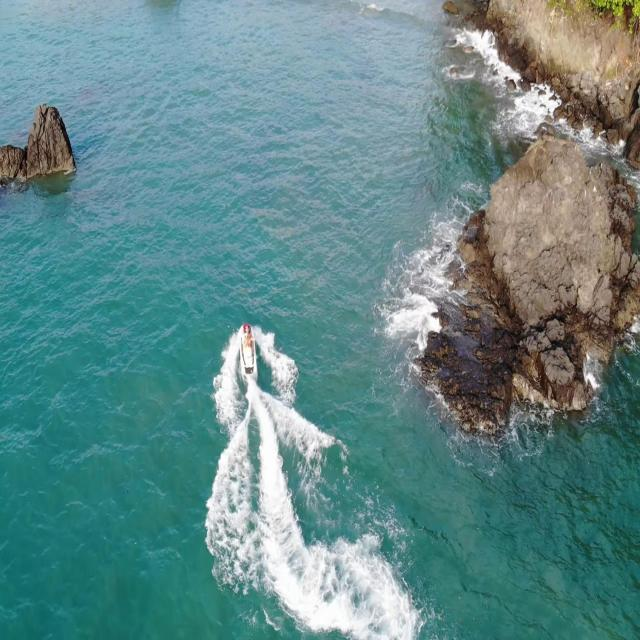boat: (238, 322, 258, 379)
